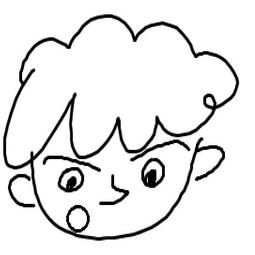ear: (190, 141, 230, 182), (5, 173, 41, 210)
eye: (138, 155, 168, 189), (55, 164, 85, 196)
frowning_eyebrow: (130, 136, 191, 161), (41, 153, 102, 173)
open_mouth: (65, 205, 93, 237)
pointy_nose: (96, 173, 131, 209)
